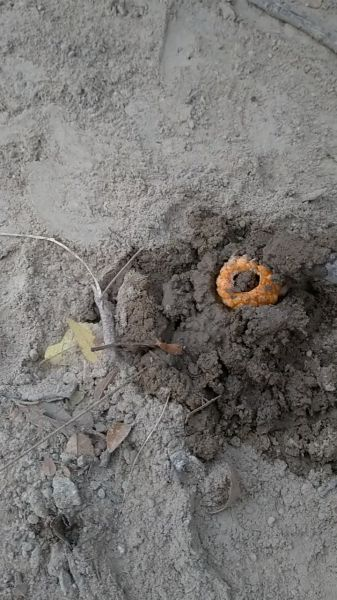eggs: (214, 253, 286, 316)
